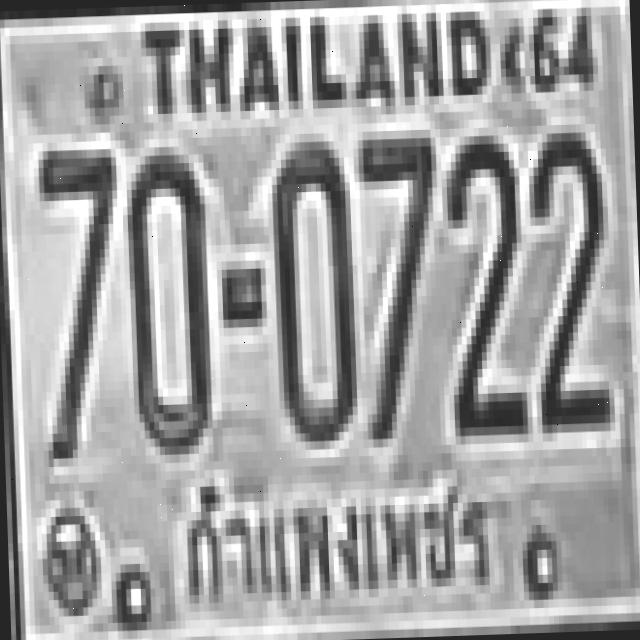0: (120, 146, 208, 448), (266, 136, 354, 438)
2: (524, 123, 608, 424), (440, 126, 522, 428)
7: (32, 140, 120, 459), (352, 130, 440, 440), (352, 134, 440, 410), (32, 140, 118, 392)
KamphaengPhet: (163, 454, 508, 626)
